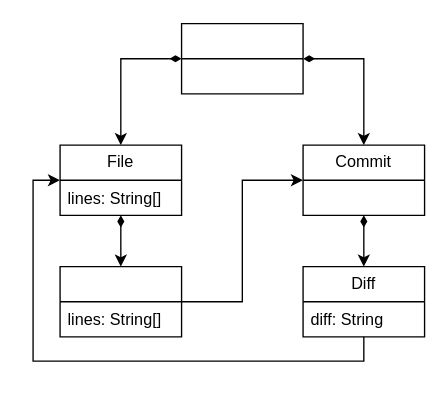
This 448x396 diagram has some shape labels left out. The box of each missing label's shape, as (x1, y1, x2, y2) in pixels:
Blame: (59, 265, 182, 337)
Project: (180, 22, 303, 94)
